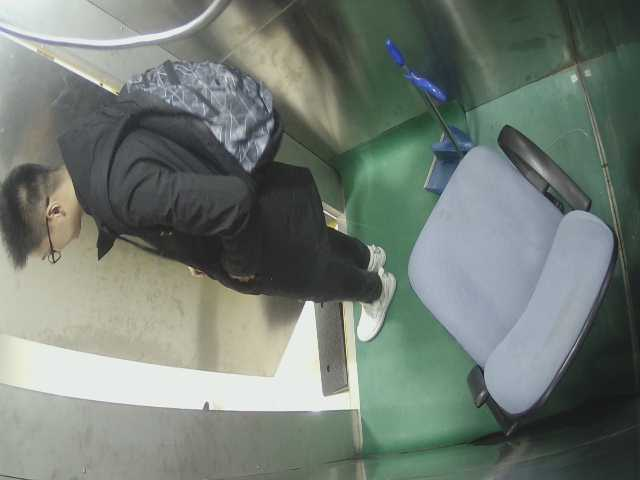bag: (119, 53, 291, 171)
broom: (376, 36, 480, 192)
chair: (404, 119, 616, 428)
person: (9, 68, 392, 340)
